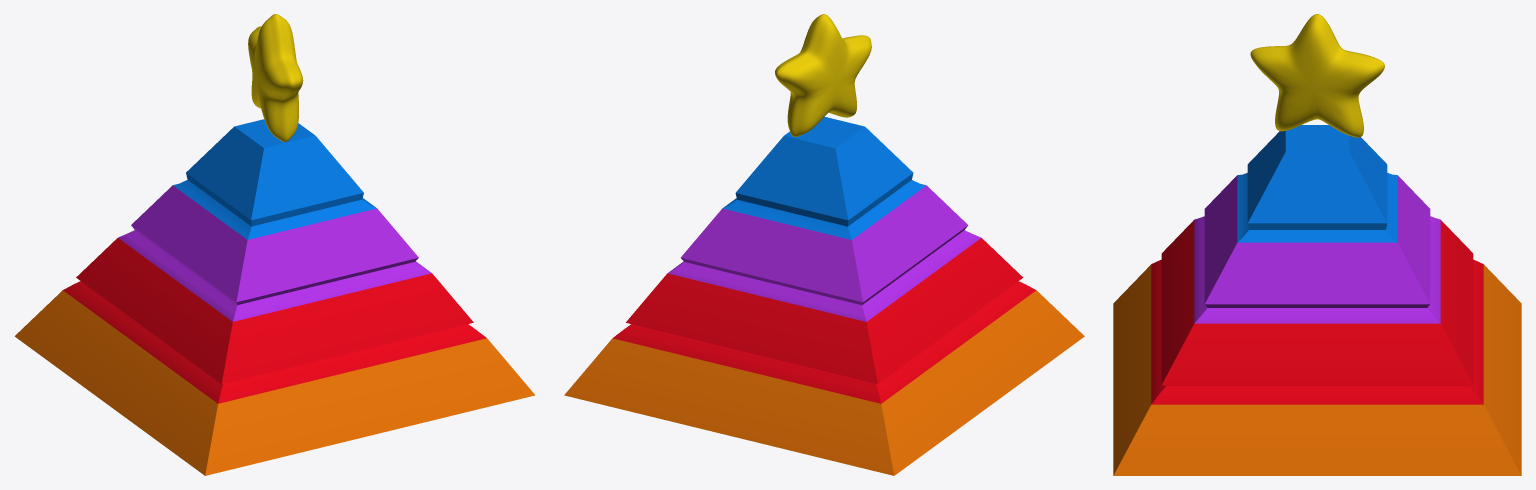
The model's file is Piramide.fbx.
The picture shows the model from 3 angles, left to right: view 1: azimuth 30°, elevation 25°; view 2: azimuth 150°, elevation 25°; view 3: azimuth 270°, elevation 25°; orthographic projection. The views are drawn at different scales.
Parts seen in each view (by area): view 1: Cube, Circle; view 2: Cube, Circle; view 3: Cube, Circle.
Part boxes in pixels (x1,y1,x2,y2): Cube: (14,119,534,475); Circle: (248,14,303,141); Cube: (564,116,1084,475); Circle: (775,14,871,136); Cube: (1113,125,1521,475); Circle: (1250,14,1384,137).
Size of the model in its own units: 621 by 631 by 621.
